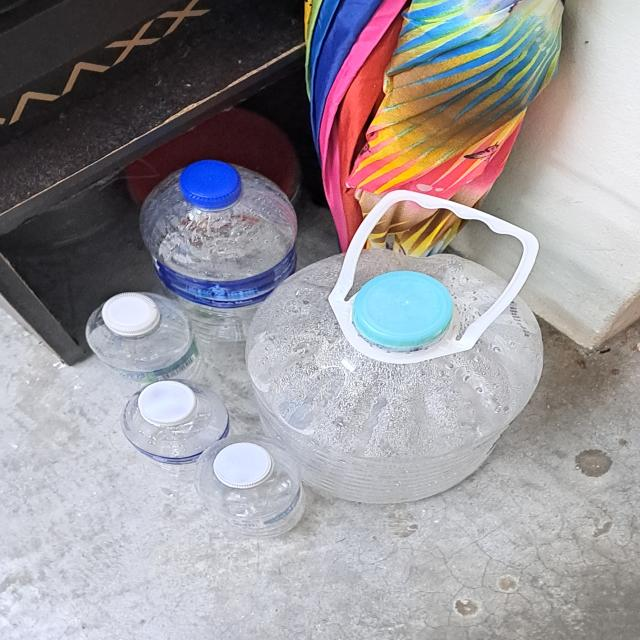plastic bottle: (244, 245, 545, 506), (134, 163, 305, 335), (82, 288, 203, 389), (197, 438, 309, 530), (113, 381, 234, 465)
plastic bottle cap: (355, 271, 456, 347), (98, 287, 166, 338), (135, 378, 196, 429), (211, 444, 272, 491), (180, 158, 238, 205)
